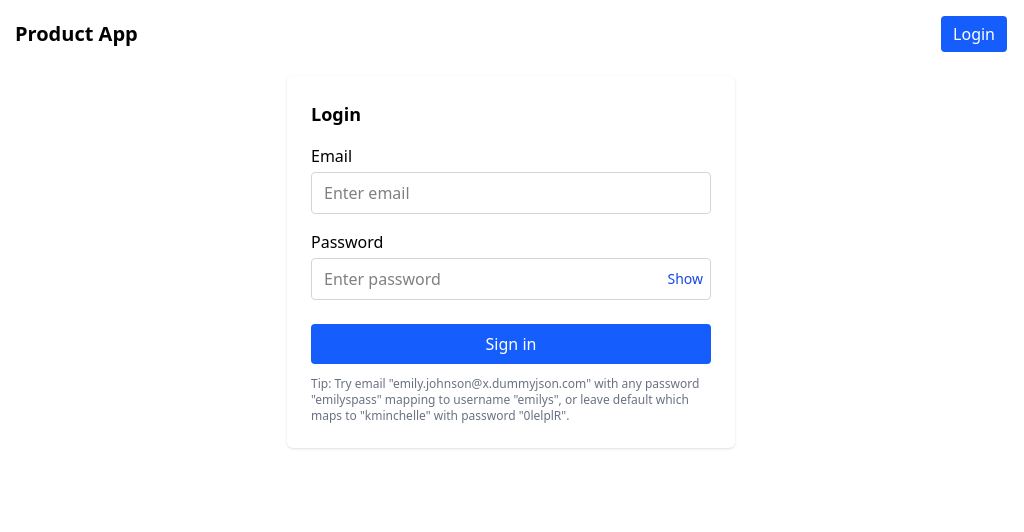
Test: Login page › shows server error on bad credentials
The width and height of the screenshot is (1024, 532).
Type "someone@example.com" into the field named "email" at (511, 193), box [311,172,711,214]
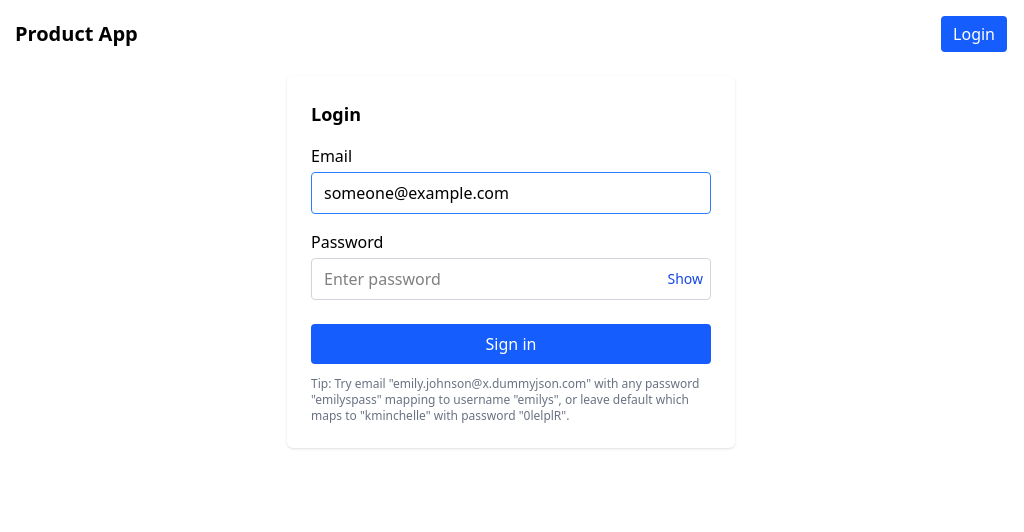
Type "wrongpass" into the password field named "password" at (511, 279), box [311,258,711,300]
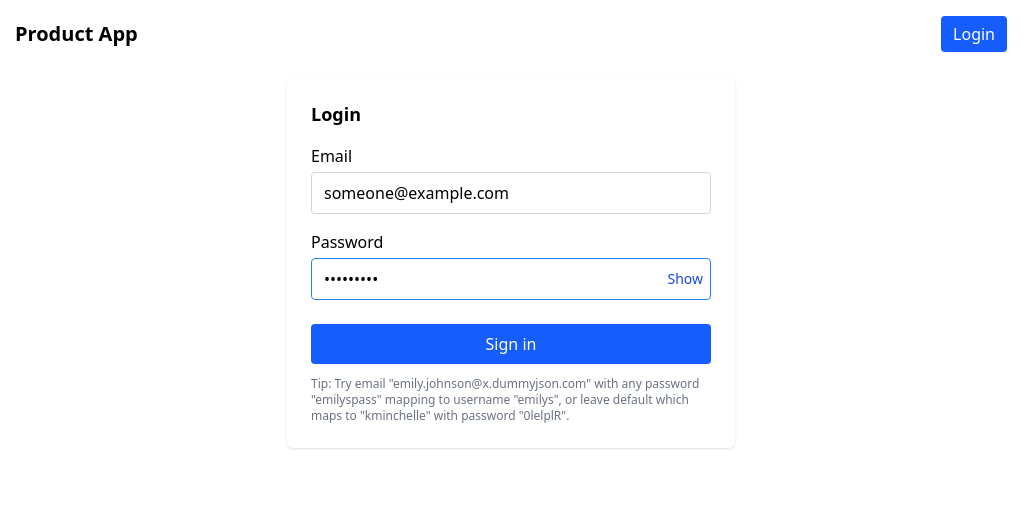
Click the button "Sign in" at (511, 344), box [311,324,711,364]
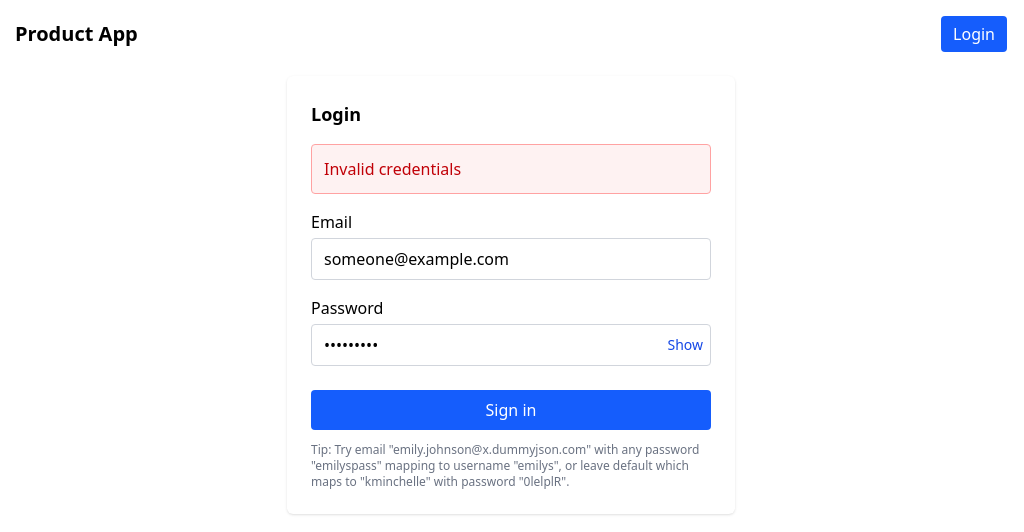
expect the text "Invalid credentials" is shown: met, box [311,144,711,194]
